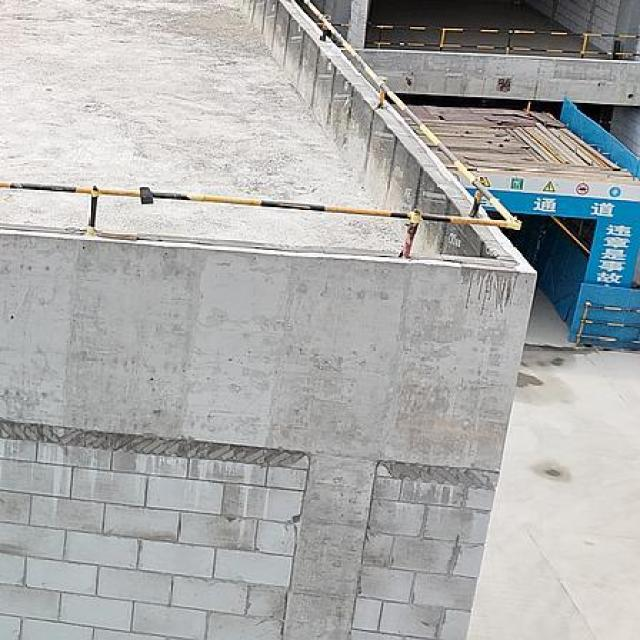Guardrail: (0, 0, 523, 263), (363, 23, 640, 60), (312, 21, 352, 44)
